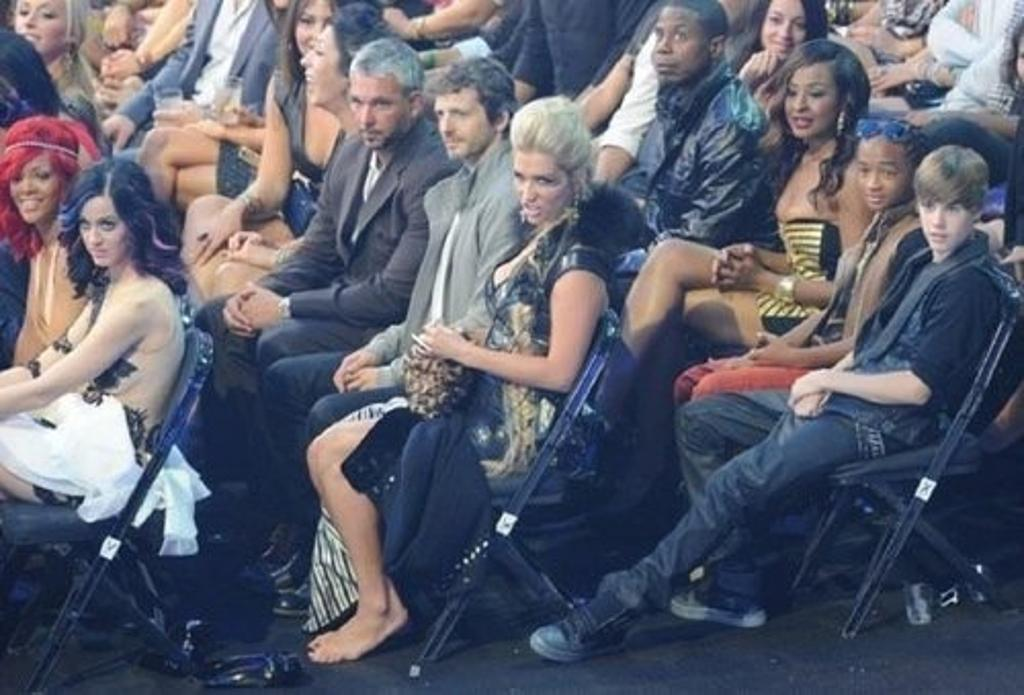face: (436, 94, 492, 160), (352, 80, 408, 146), (785, 67, 836, 138), (651, 13, 704, 81), (9, 151, 59, 220), (918, 188, 972, 250), (515, 157, 564, 224), (79, 202, 127, 266), (302, 35, 345, 104), (15, 0, 69, 54), (858, 147, 905, 209), (764, 0, 810, 61), (296, 2, 342, 60)
